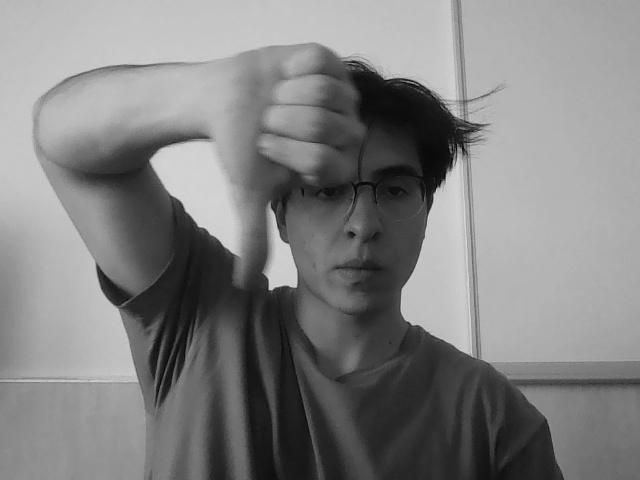bad: (197, 44, 363, 297)
